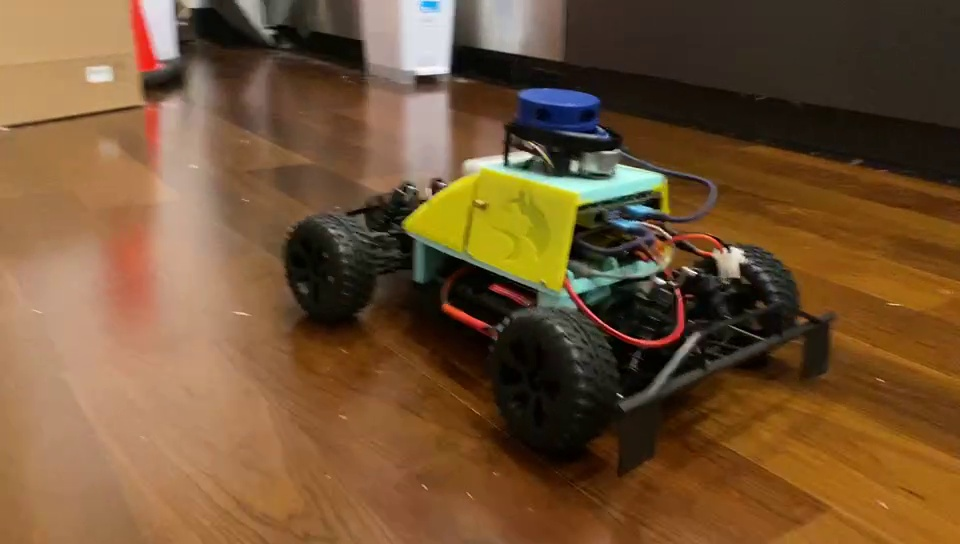mushr_car: (282, 78, 842, 482)
